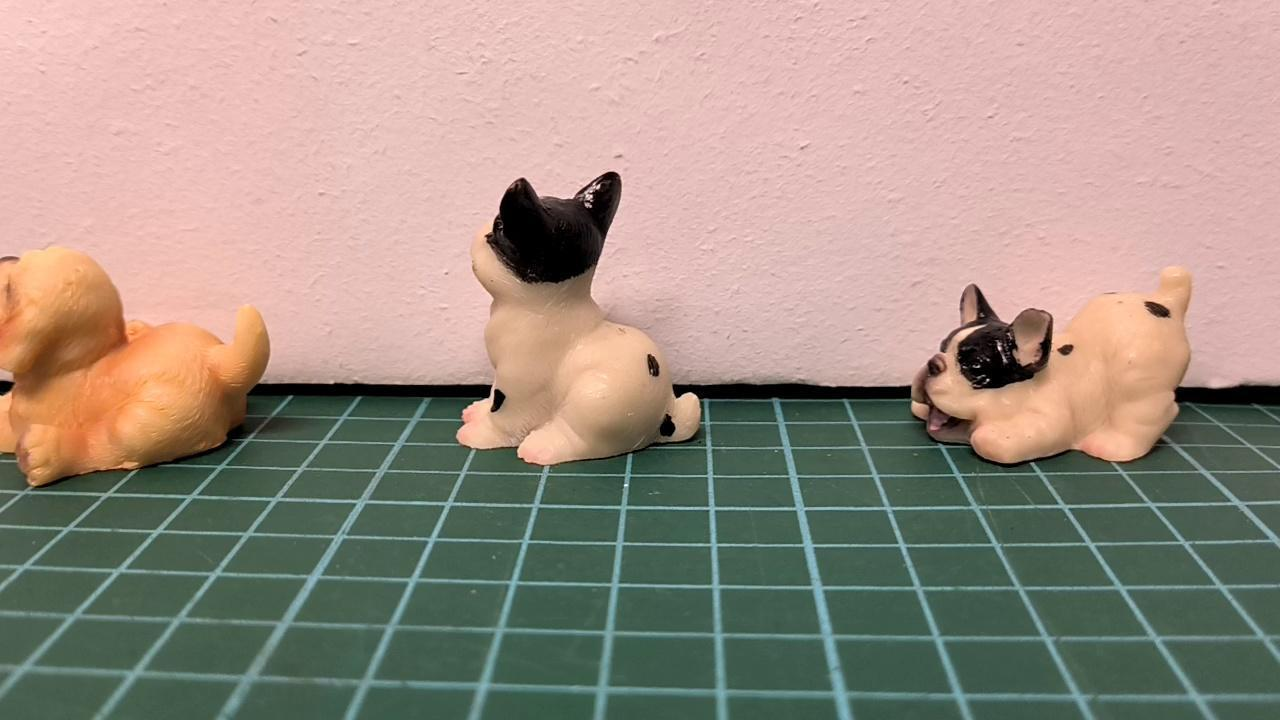pet: (452, 165, 706, 467), (0, 237, 280, 490), (908, 269, 1196, 468)
